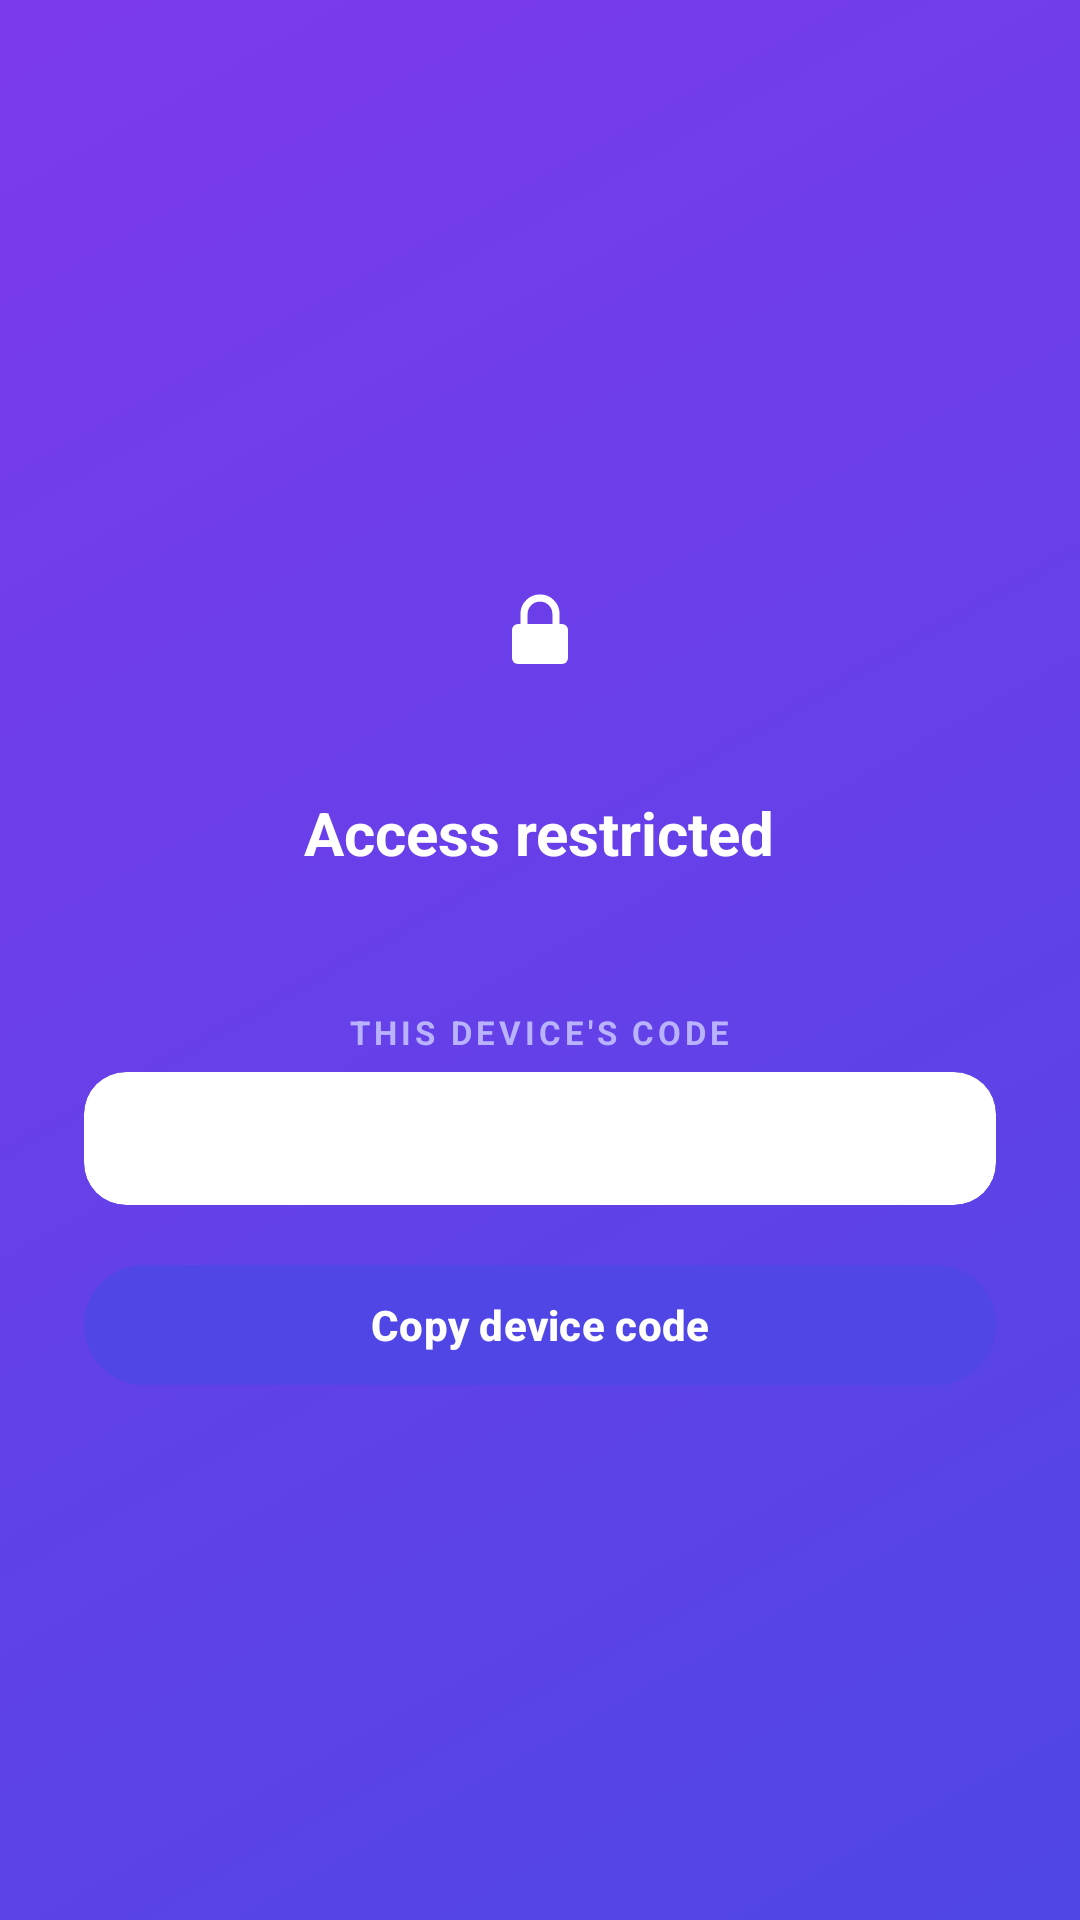

Icon bounding boxes for this 1080px x 1920px phone screenshot, format [x1, y1, x2, y2]:
lock: [512, 594, 568, 664]
